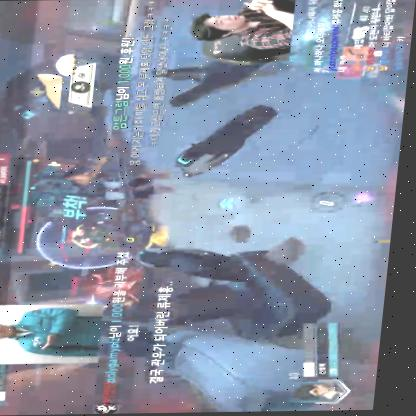donation: (0, 249, 184, 416), (29, 0, 176, 168)
streamer: (188, 0, 295, 50)
